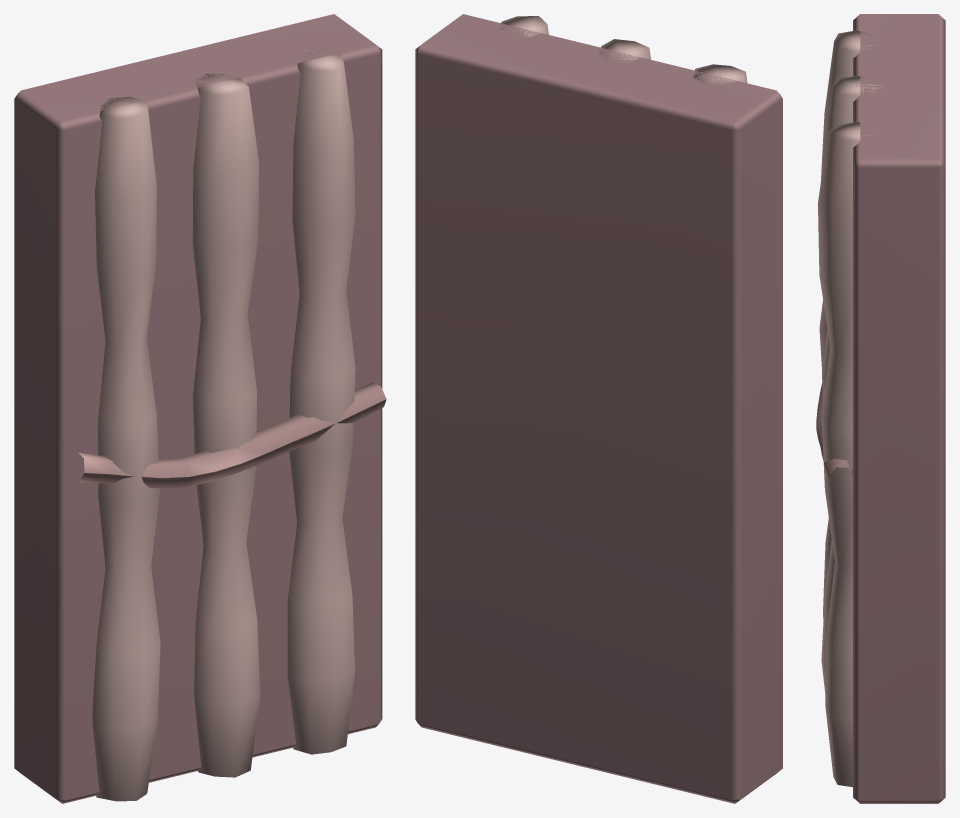
Rendered from sinew-wall-outer.glb.
The picture shows the model from 3 angles, left to right: view 1: azimuth 30°, elevation 25°; view 2: azimuth 150°, elevation 25°; view 3: azimuth 270°, elevation 25°; orthographic projection. The views are drawn at different scales.
Visible parts, largest first — view 1: body; view 2: body; view 3: body.
Boxes of the visible parts, <box> form: body: <box>14,14,386,803</box>; body: <box>415,14,782,803</box>; body: <box>816,14,945,803</box>.
Size of what is drawn, in the model's own units: 1 by 2 by 0.363.
